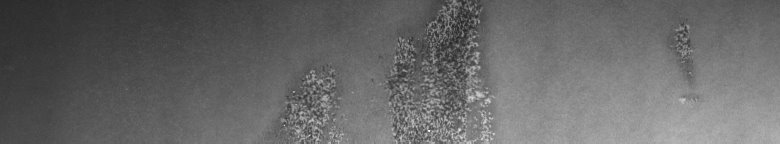hc: (281, 4, 495, 136)
